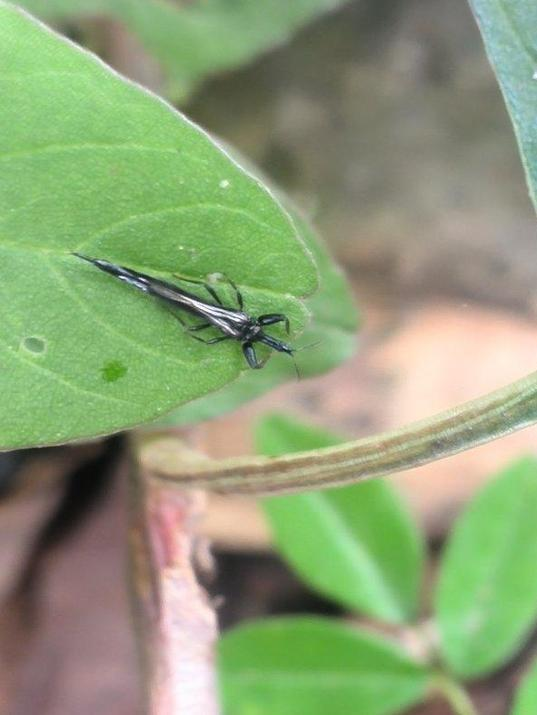tiny_pests: (52, 210, 317, 409)
